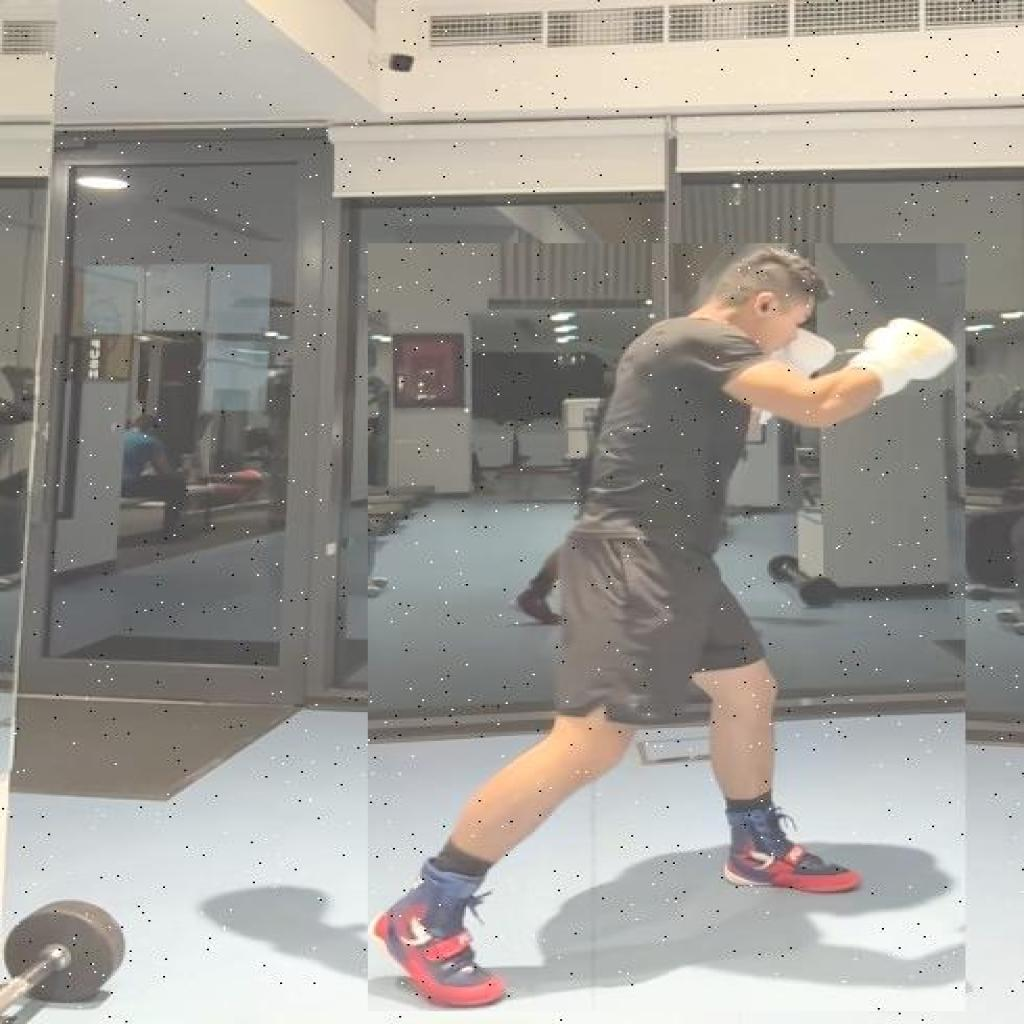no punch: (368, 244, 966, 1010)
